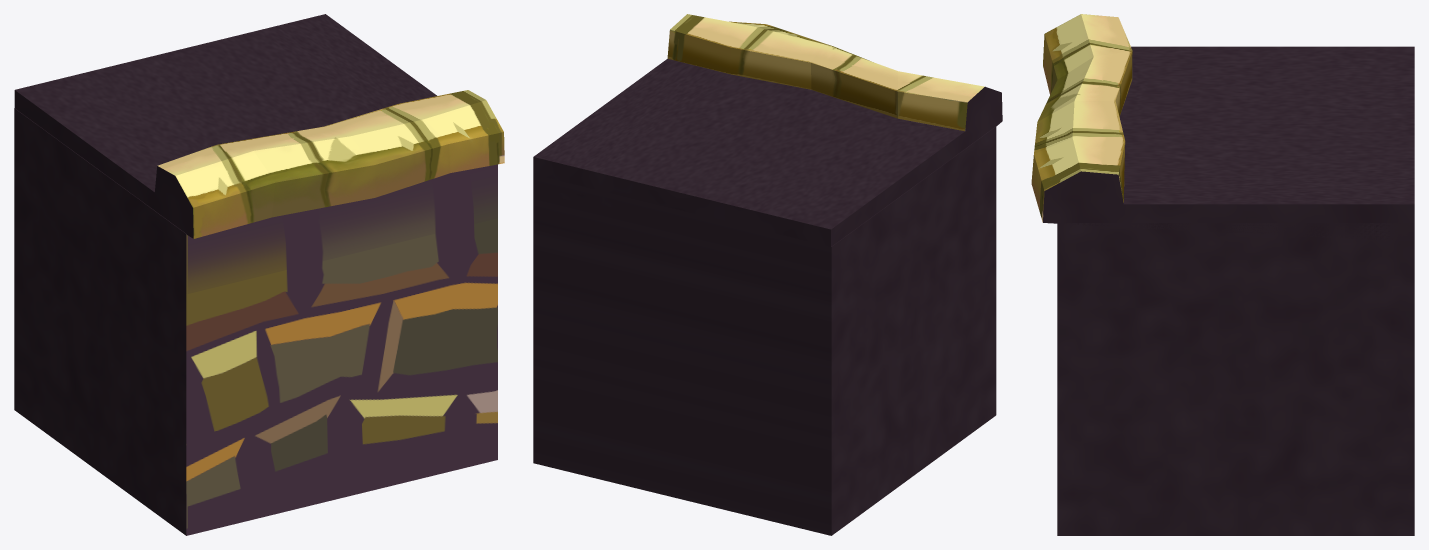
Rendered from Int_5_Block_U.fbx.
3 renders of one model, left to right at view 1: azimuth 30°, elevation 25°; view 2: azimuth 150°, elevation 25°; view 3: azimuth 270°, elevation 25°, orthographic. The views are drawn at different scales.
Visible parts, largest first — view 1: Int_5_Block_U; view 2: Int_5_Block_U; view 3: Int_5_Block_U.
Boxes of the visible parts, bbox=[...] form: Int_5_Block_U: bbox=[14, 14, 504, 535]; Int_5_Block_U: bbox=[533, 14, 1002, 535]; Int_5_Block_U: bbox=[1031, 14, 1414, 535].
Bounding box in the file's own units: 1 × 1.08 × 1.03.
1 material, 1 textured.
